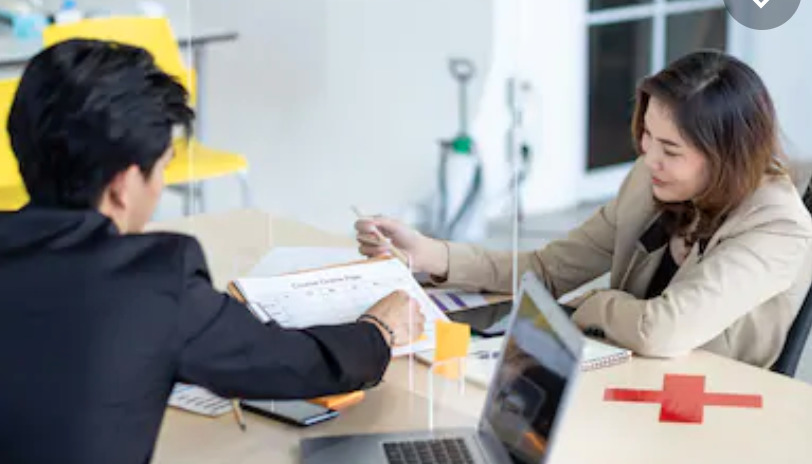Caution: (2, 32, 812, 382)
